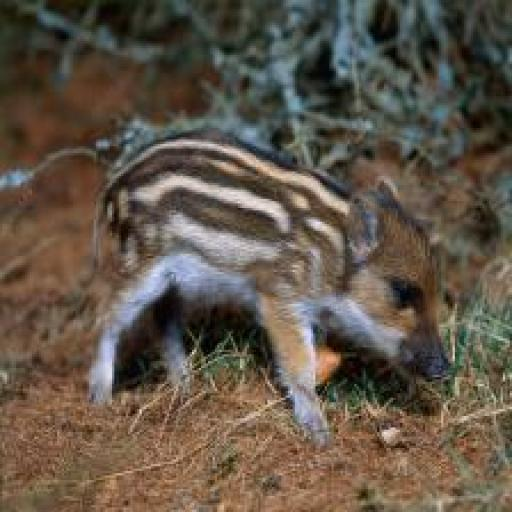Pig: (87, 128, 450, 446)
